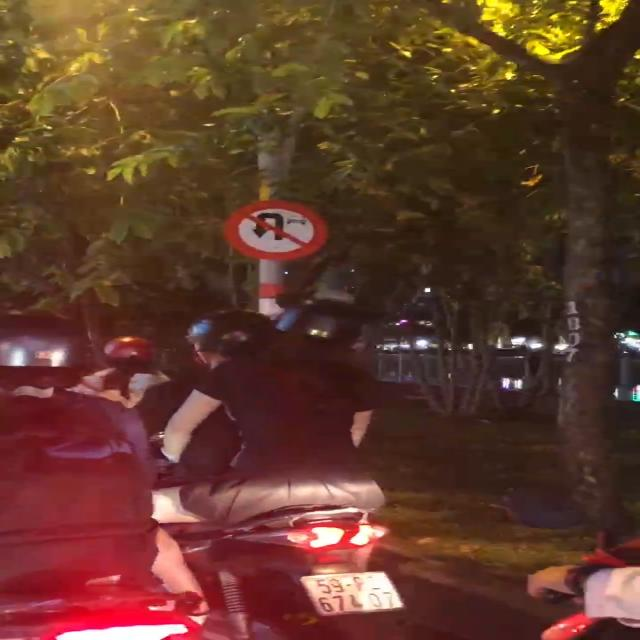Bien bao cam quay dau xe: (219, 201, 328, 262)
